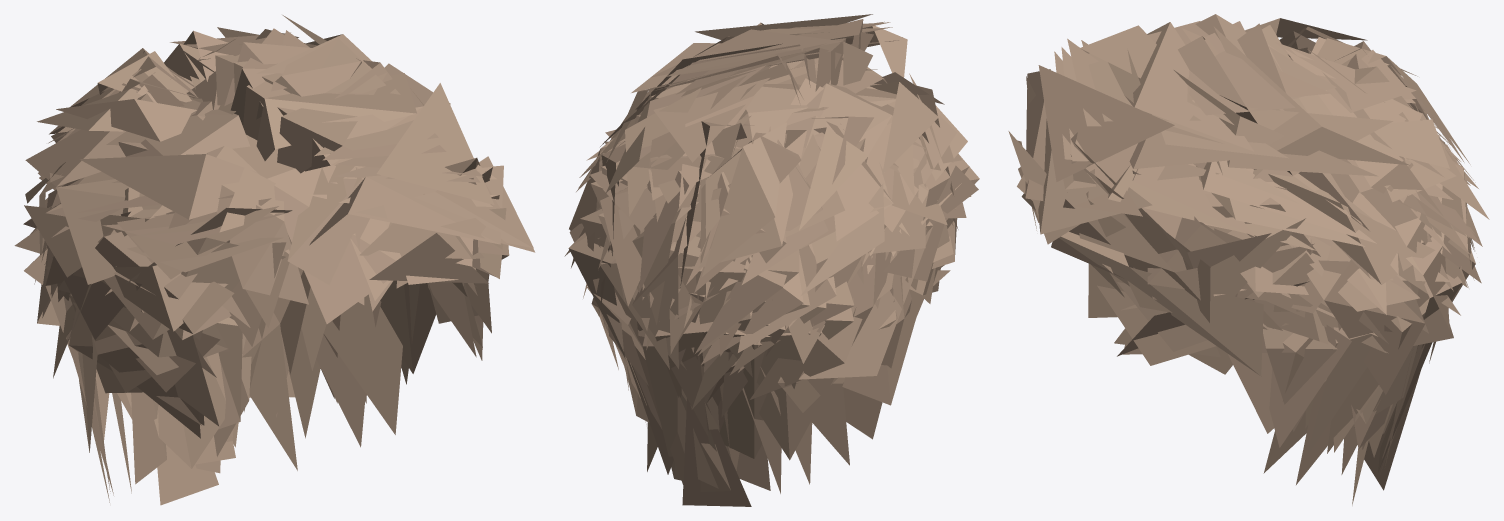
File: male_hair_12_lod2.glb
The picture shows the model from 3 angles, left to right: view 1: azimuth 30°, elevation 25°; view 2: azimuth 150°, elevation 25°; view 3: azimuth 270°, elevation 25°; orthographic projection. The views are drawn at different scales.
Parts seen in each view (by area): view 1: hair_12; view 2: hair_12; view 3: hair_12.
Boxes of the visible parts, x1,y1,x2,y2 form: hair_12: [14, 15, 535, 505]; hair_12: [564, 14, 979, 506]; hair_12: [1008, 14, 1489, 505].
Size of the model in its own units: 0.1732 by 0.2153 by 0.2098.
